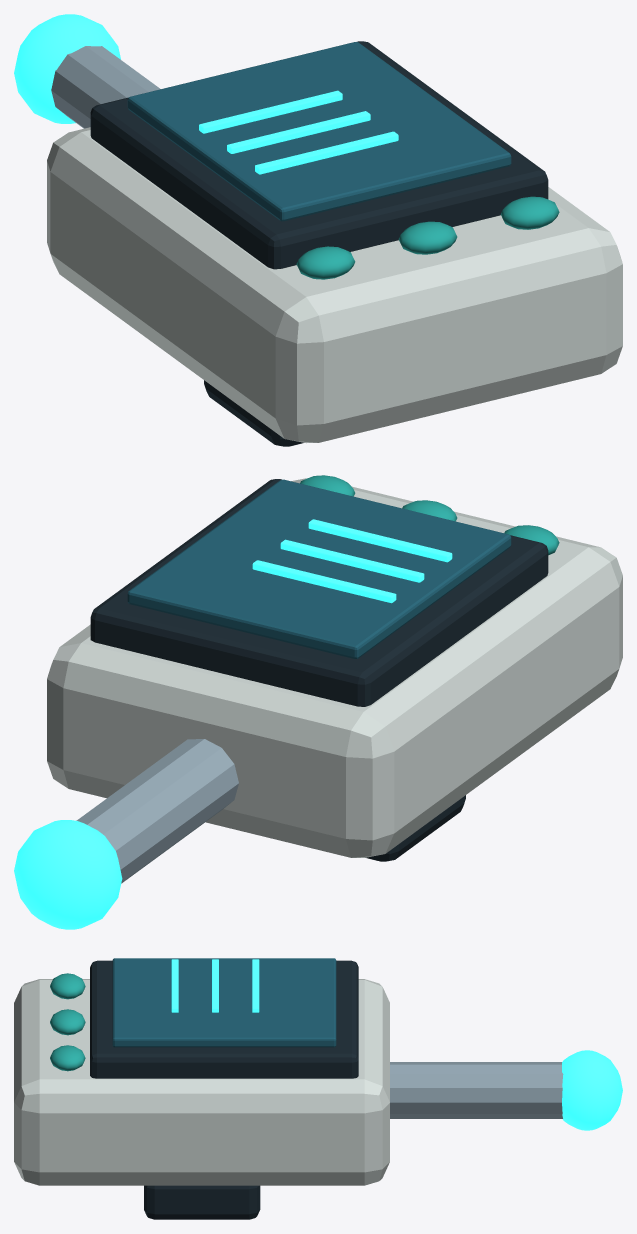
The model's file is field_scanner.glb.
3 views of the same model, one above another, from view 1: azimuth 30°, elevation 25°; view 2: azimuth 150°, elevation 25°; view 3: azimuth 270°, elevation 25° (orthographic). The views are drawn at different scales.
Visible parts, largest first — view 1: Geometry_field_scanner; view 2: Geometry_field_scanner; view 3: Geometry_field_scanner.
Boxes of the visible parts, left/top/right/bottom form: Geometry_field_scanner: left=14, top=14, right=622, bottom=446; Geometry_field_scanner: left=14, top=475, right=622, bottom=929; Geometry_field_scanner: left=14, top=958, right=622, bottom=1219.
Size of the model in its own units: 0.32 by 0.2425 by 0.68.
